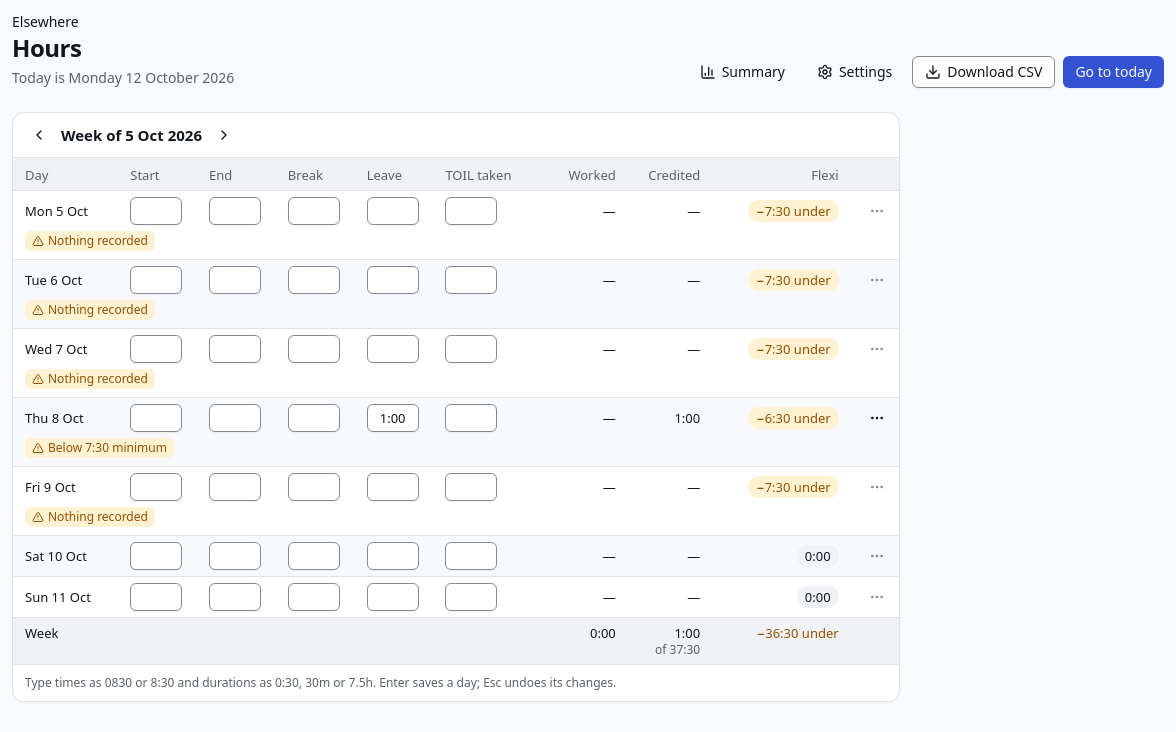
Test: WeekView › updates a saved day with its version, and shows a refusal under the row
expect the heading "Hours" is shown: met, box [12,31,81,64]
Clear the field named "Leave, Thu 8 Oct" at (393, 418), box [367,404,419,432]
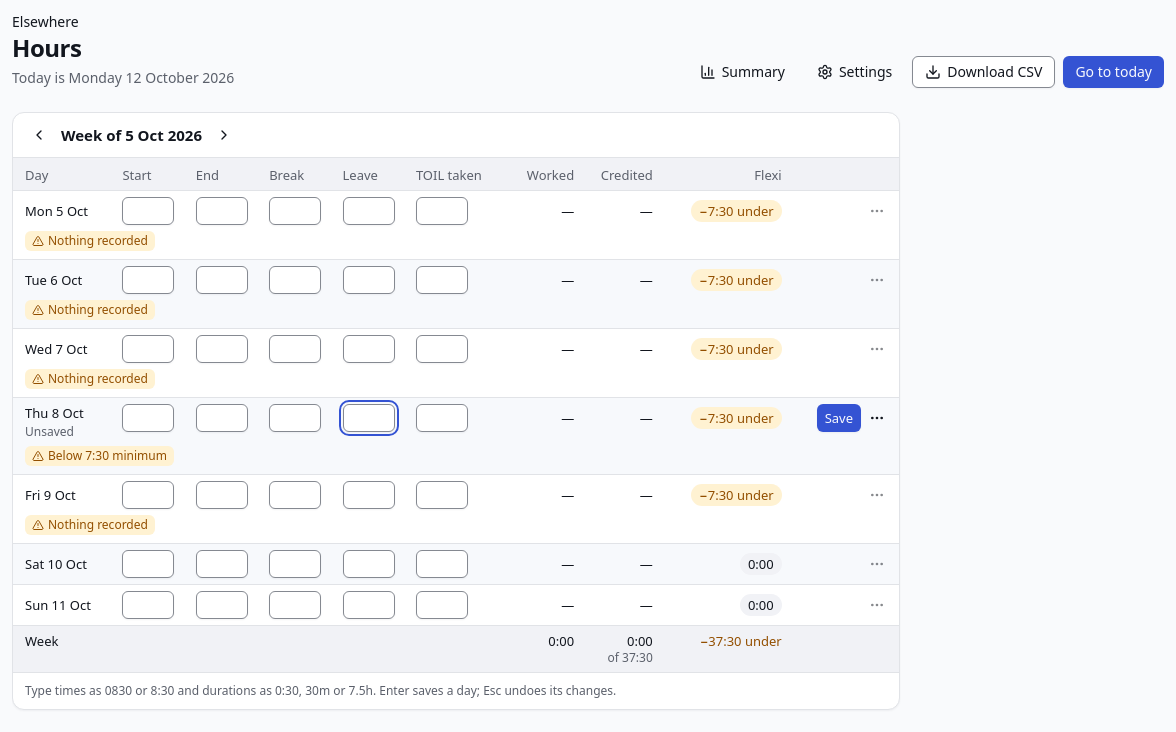
Type "8h" into the field named "Leave, Thu 8 Oct".
click(368, 418); type("8h")  # box [342,404,394,432]
Then press Enter
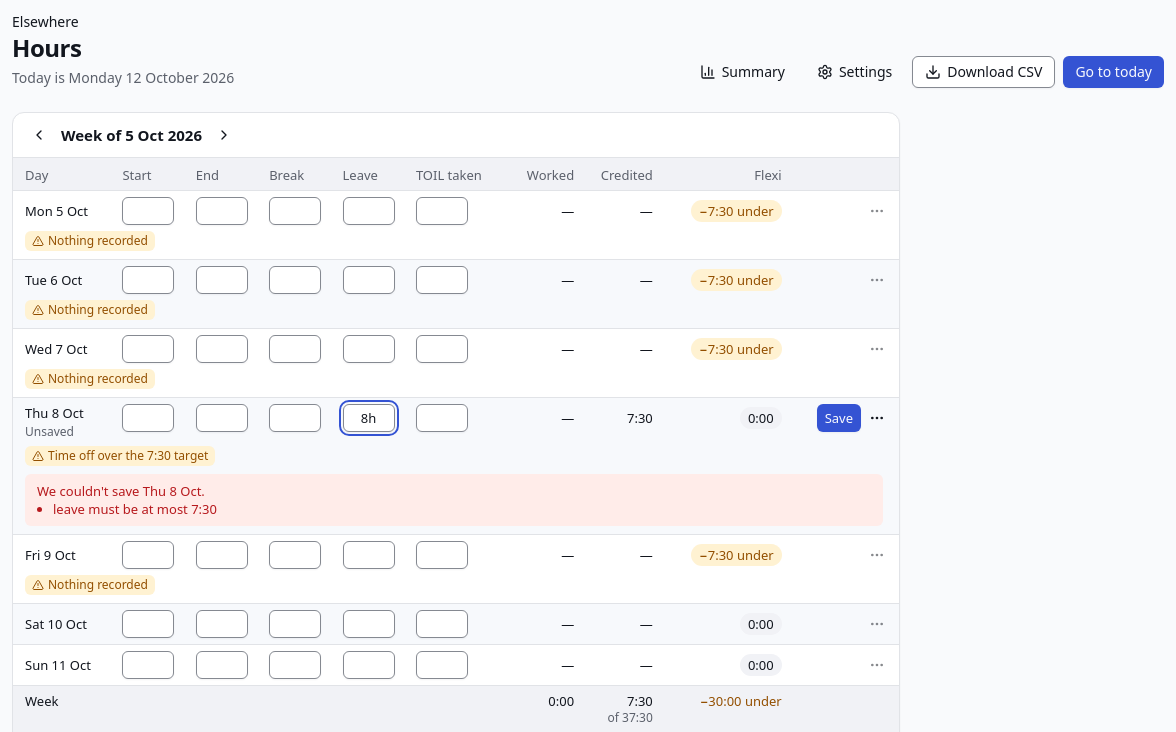
expect the message shows "We couldn't save Thu 8 Oct.": met, box [25,474,883,526]
expect the message shows "leave must be at most 7:30": met, box [53,500,217,518]
